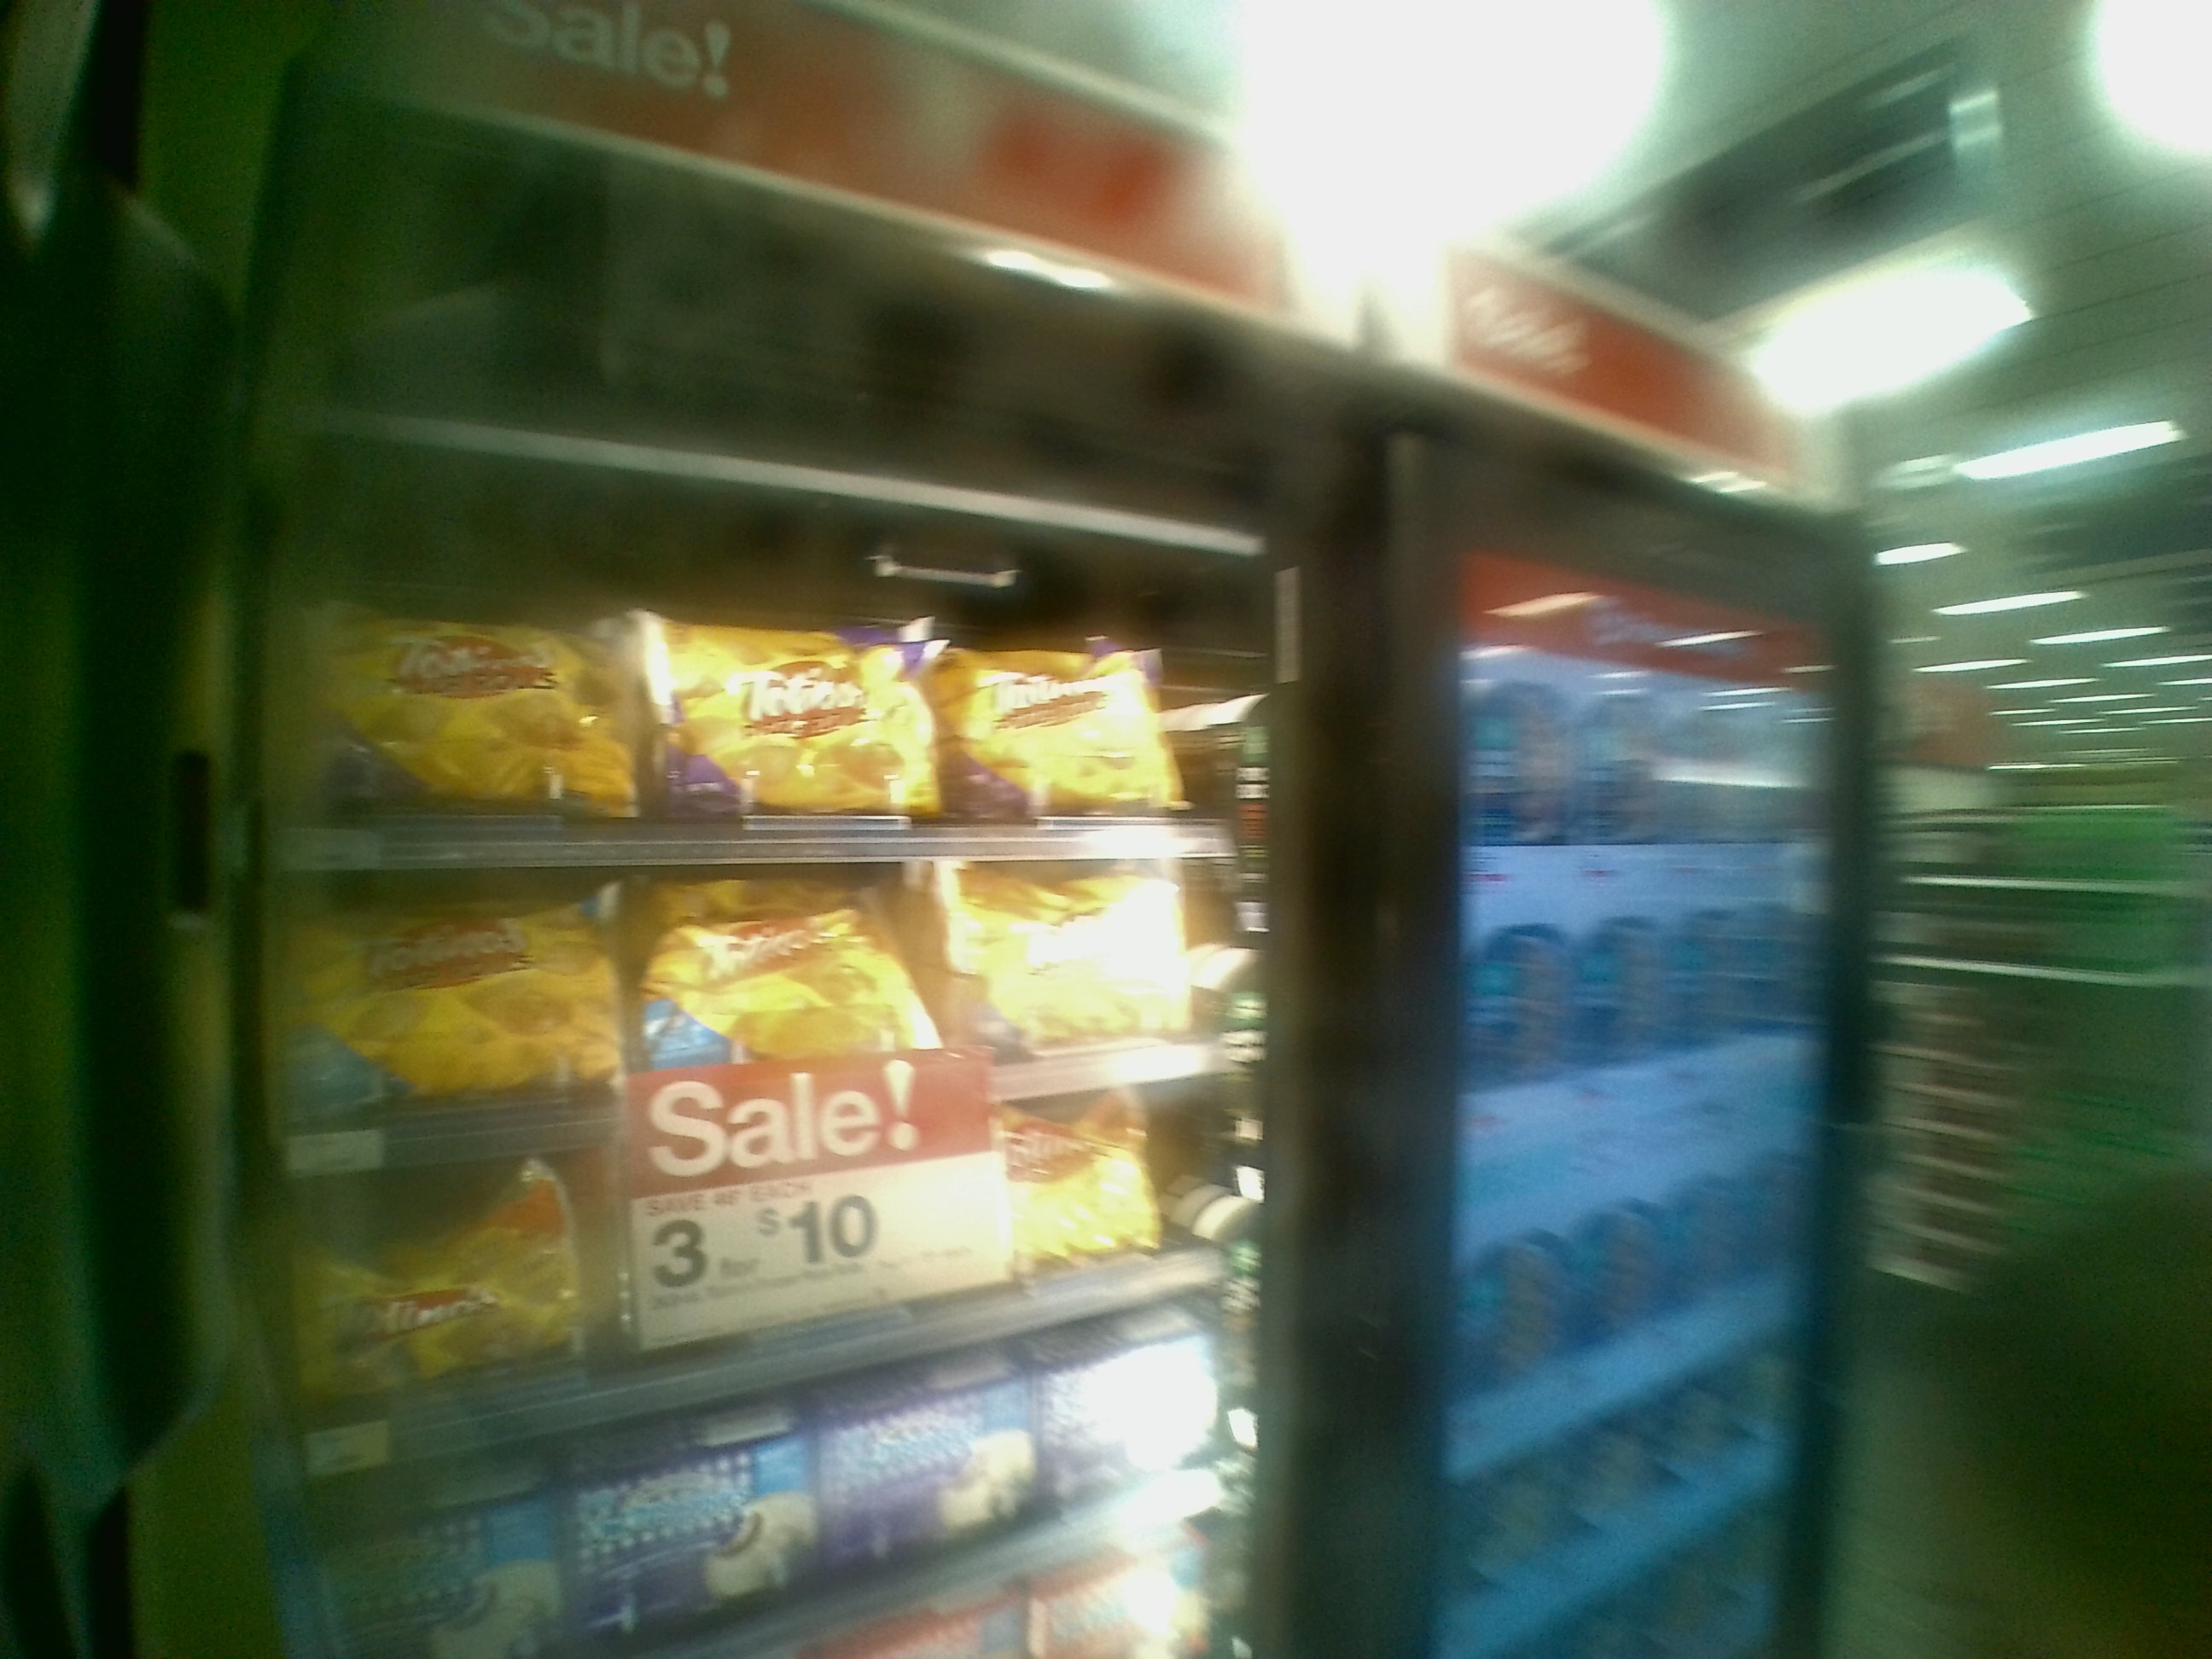shelf: (254, 519, 1271, 882), (242, 854, 1268, 1084), (247, 1115, 1271, 1316)
